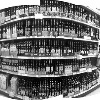beer: (35, 21, 40, 35)
